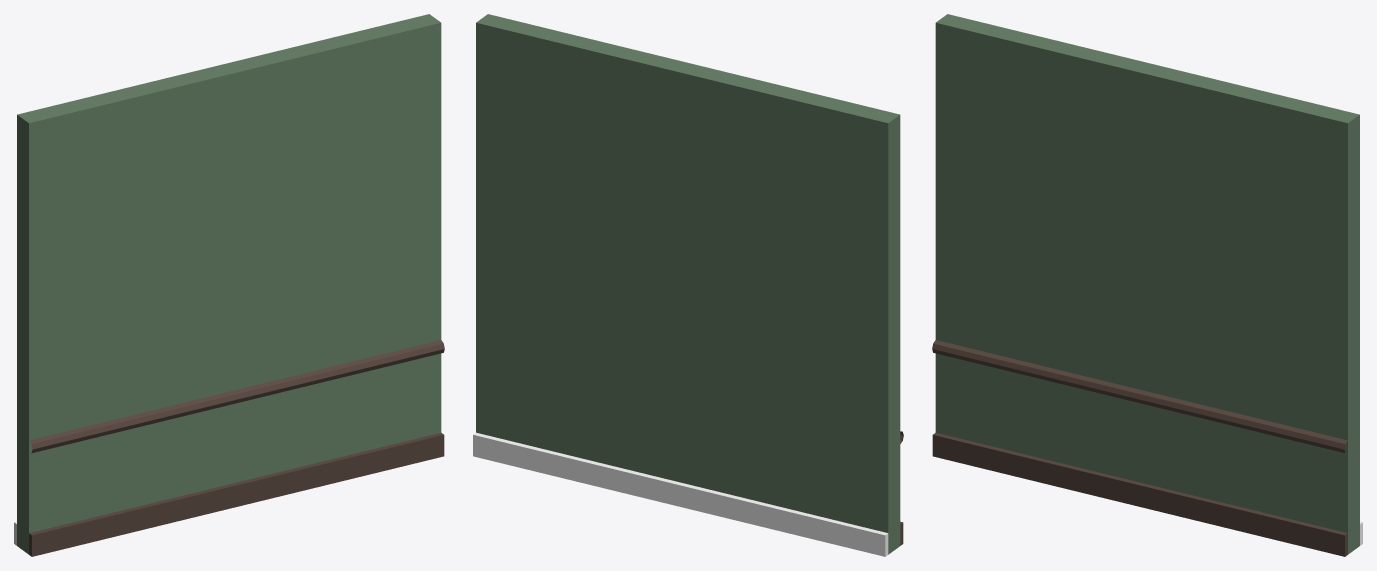
Rendered from h_wall_3_4.fbx.
The picture shows the model from 3 angles, left to right: view 1: azimuth 30°, elevation 25°; view 2: azimuth 150°, elevation 25°; view 3: azimuth 330°, elevation 25°; orthographic projection.
Visible parts, largest first — view 1: Cube; view 2: Cube; view 3: Cube.
Boxes of the visible parts, box(x1,y1,x2,y2) form: Cube: box(14, 14, 444, 556); Cube: box(473, 14, 903, 556); Cube: box(932, 14, 1362, 556).
Bounding box in the file's own units: 400 × 400 × 31.
